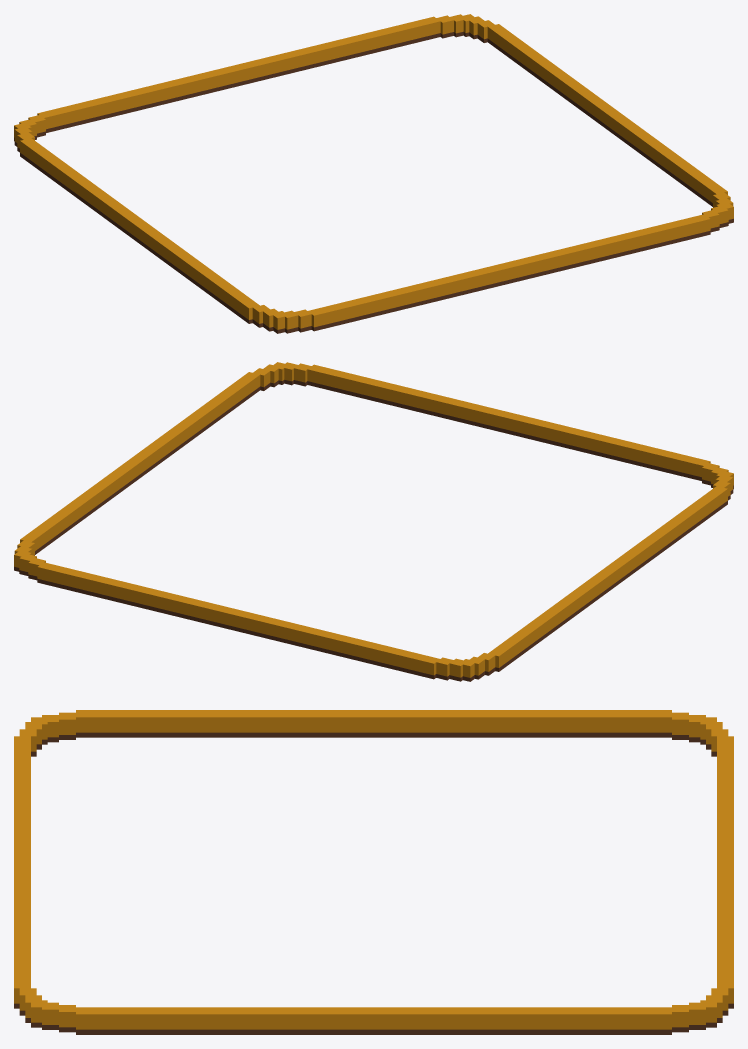
File: TileOutline.obj
3 views of the same model, one above another, from view 1: azimuth 30°, elevation 25°; view 2: azimuth 150°, elevation 25°; view 3: azimuth 270°, elevation 25° (orthographic). The views are drawn at different scales.
Bounding box in the file's own units: 12.8 × 0.4 × 12.8.
1 material, 1 textured.
